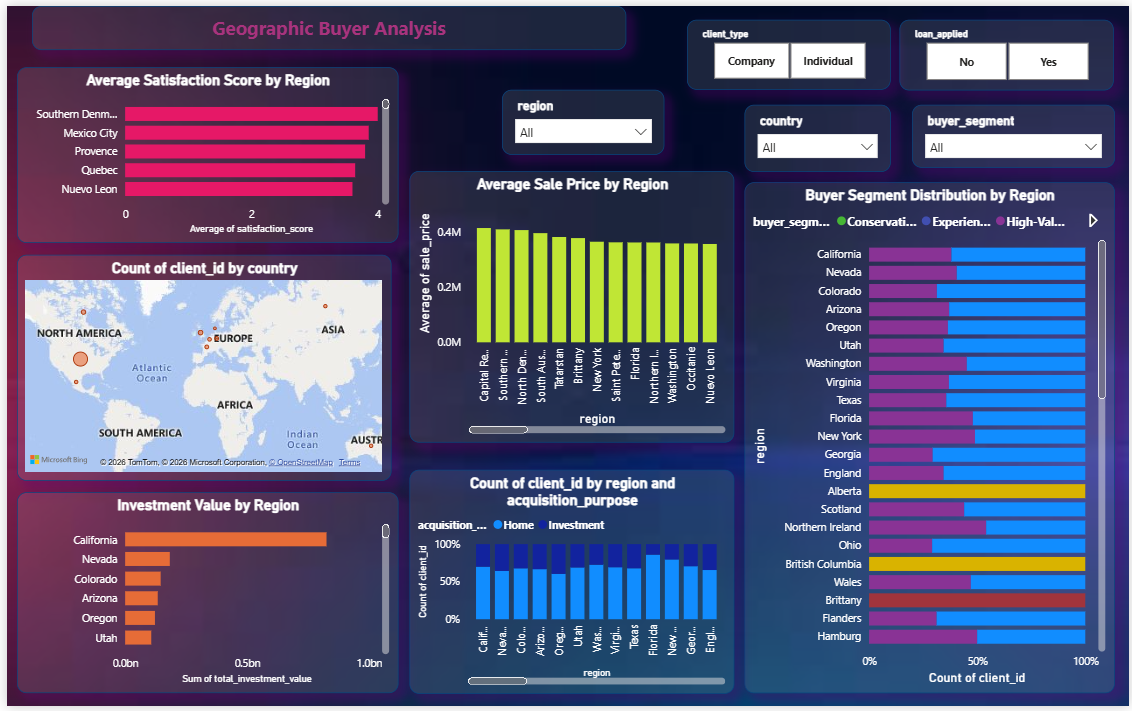

What the dashboard file says about the page in this screenshot:
{"tool":"powerbi","page":{"name":"Dashboard 3","canvas":[1282,800],"ordinal":2},"visuals":[{"type":"textbox","box":[29,0,679.2,50.7],"z":0},{"type":"map","fields":{"Category":["buyer_segmentation_final.country"],"Size":["Count(buyer_segmentation_final.client_id)"]},"box":[12.1,284.2,427.6,258.7],"z":1000},{"type":"clusteredBarChart","title":"Investment Value by Region","fields":{"Category":["buyer_segmentation_final.region"],"Y":["Sum(buyer_segmentation_final.total_investment_value)"]},"box":[12.1,556.3,435.7,229.2],"z":2000},{"type":"hundredPercentStackedBarChart","title":"Buyer Segment Distribution by Region","fields":{"Category":["buyer_segmentation_final.region"],"Y":["CountNonNull(buyer_segmentation_final.client_id)"],"Series":["buyer_segmentation_final.buyer_segment"]},"box":[842.9,201.4,422.9,584.3],"z":3000},{"type":"clusteredColumnChart","title":"Average Sale Price by Region","fields":{"Y":["Avg(buyer_segmentation_final.sale_price)"],"Category":["buyer_segmentation_final.region"]},"box":[460,188.6,371.4,310],"z":4000},{"type":"hundredPercentStackedColumnChart","fields":{"Category":["buyer_segmentation_final.region"],"Y":["CountNonNull(buyer_segmentation_final.client_id)"],"Series":["buyer_segmentation_final.acquisition_purpose"]},"box":[459.8,529.5,371.3,256],"z":5000},{"type":"clusteredBarChart","title":"Average Satisfaction Score by Region","fields":{"Category":["buyer_segmentation_final.region"],"Y":["Avg(buyer_segmentation_final.satisfaction_score)"]},"box":[12.1,69.7,435.7,201.1],"z":6000},{"type":"slicer","fields":{"Values":["buyer_segmentation_final.region"]},"box":[565.7,95.7,185.7,74.3],"z":7000},{"type":"slicer","fields":{"Values":["buyer_segmentation_final.country"]},"box":[842.9,112.9,167.1,77.1],"z":8000},{"type":"slicer","fields":{"Values":["buyer_segmentation_final.buyer_segment"]},"box":[1033.9,112.2,231.6,72.4],"z":9000},{"type":"slicer","fields":{"Values":["buyer_segmentation_final.client_type"]},"box":[776.9,15.7,232.8,79.6],"z":10000},{"type":"slicer","fields":{"Values":["buyer_segmentation_final.loan_applied"]},"box":[1020.6,15.7,244.9,80.8],"z":11000}]}

Visuals, with their boxes in screenshot pixels (x1, y1, x2, y2), scaled from the page's 1282x800 canvas onto the 1132x711 screenshot:
textbox: Rect(26, 0, 625, 45)
map - buyer_segmentation_final.country x Count(buyer_segmentation_final.client_id): Rect(11, 253, 388, 483)
"Investment Value by Region" clusteredBarChart: Rect(11, 494, 395, 698)
"Buyer Segment Distribution by Region" hundredPercentStackedBarChart: Rect(744, 179, 1118, 698)
"Average Sale Price by Region" clusteredColumnChart: Rect(406, 168, 734, 443)
hundredPercentStackedColumnChart - buyer_segmentation_final.region x CountNonNull(buyer_segmentation_final.client_id): Rect(406, 471, 734, 698)
"Average Satisfaction Score by Region" clusteredBarChart: Rect(11, 62, 395, 241)
slicer - buyer_segmentation_final.region: Rect(500, 85, 663, 151)
slicer - buyer_segmentation_final.country: Rect(744, 100, 892, 169)
slicer - buyer_segmentation_final.buyer_segment: Rect(913, 100, 1117, 164)
slicer - buyer_segmentation_final.client_type: Rect(686, 14, 892, 85)
slicer - buyer_segmentation_final.loan_applied: Rect(901, 14, 1117, 86)
